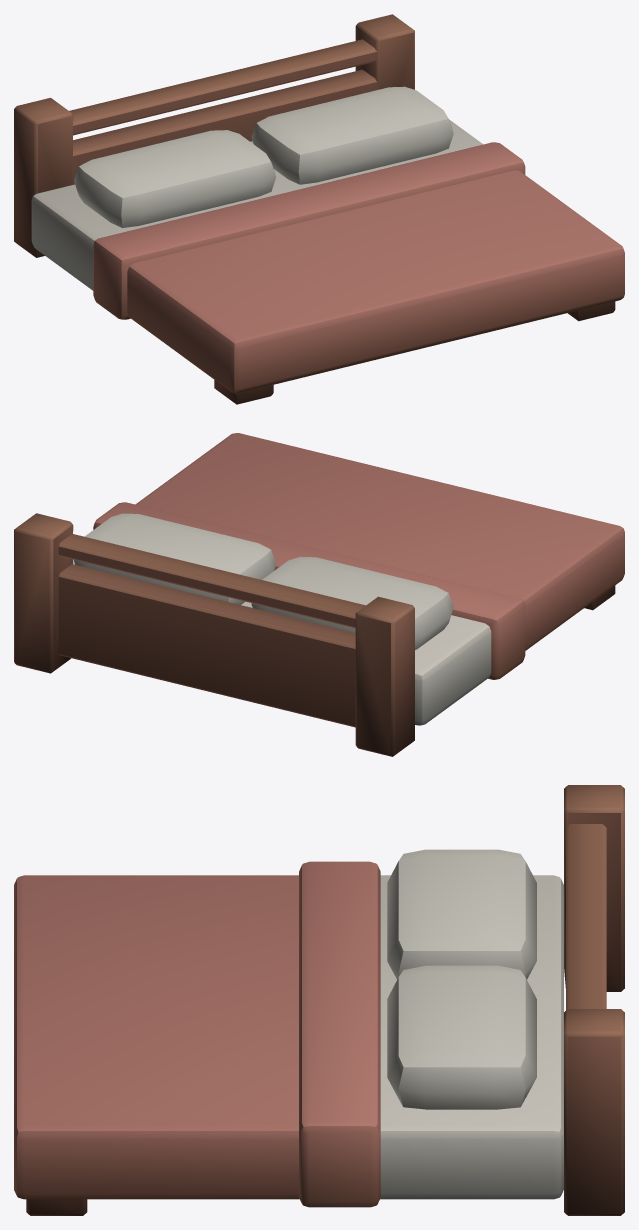
The model's file is bed-double-a.glb.
The picture shows the model from 3 angles, top to bottom: view 1: azimuth 30°, elevation 25°; view 2: azimuth 150°, elevation 25°; view 3: azimuth 270°, elevation 25°; orthographic projection. The views are drawn at different scales.
Visible parts, largest first — view 1: bed-double-a; view 2: bed-double-a; view 3: bed-double-a.
Part boxes in pixels (left/top/right/bottom): bed-double-a: left=14, top=14, right=624, bottom=404; bed-double-a: left=14, top=433, right=624, bottom=756; bed-double-a: left=14, top=785, right=624, bottom=1215.
Bounding box in the file's own units: 3.1 × 0.9999 × 3.
